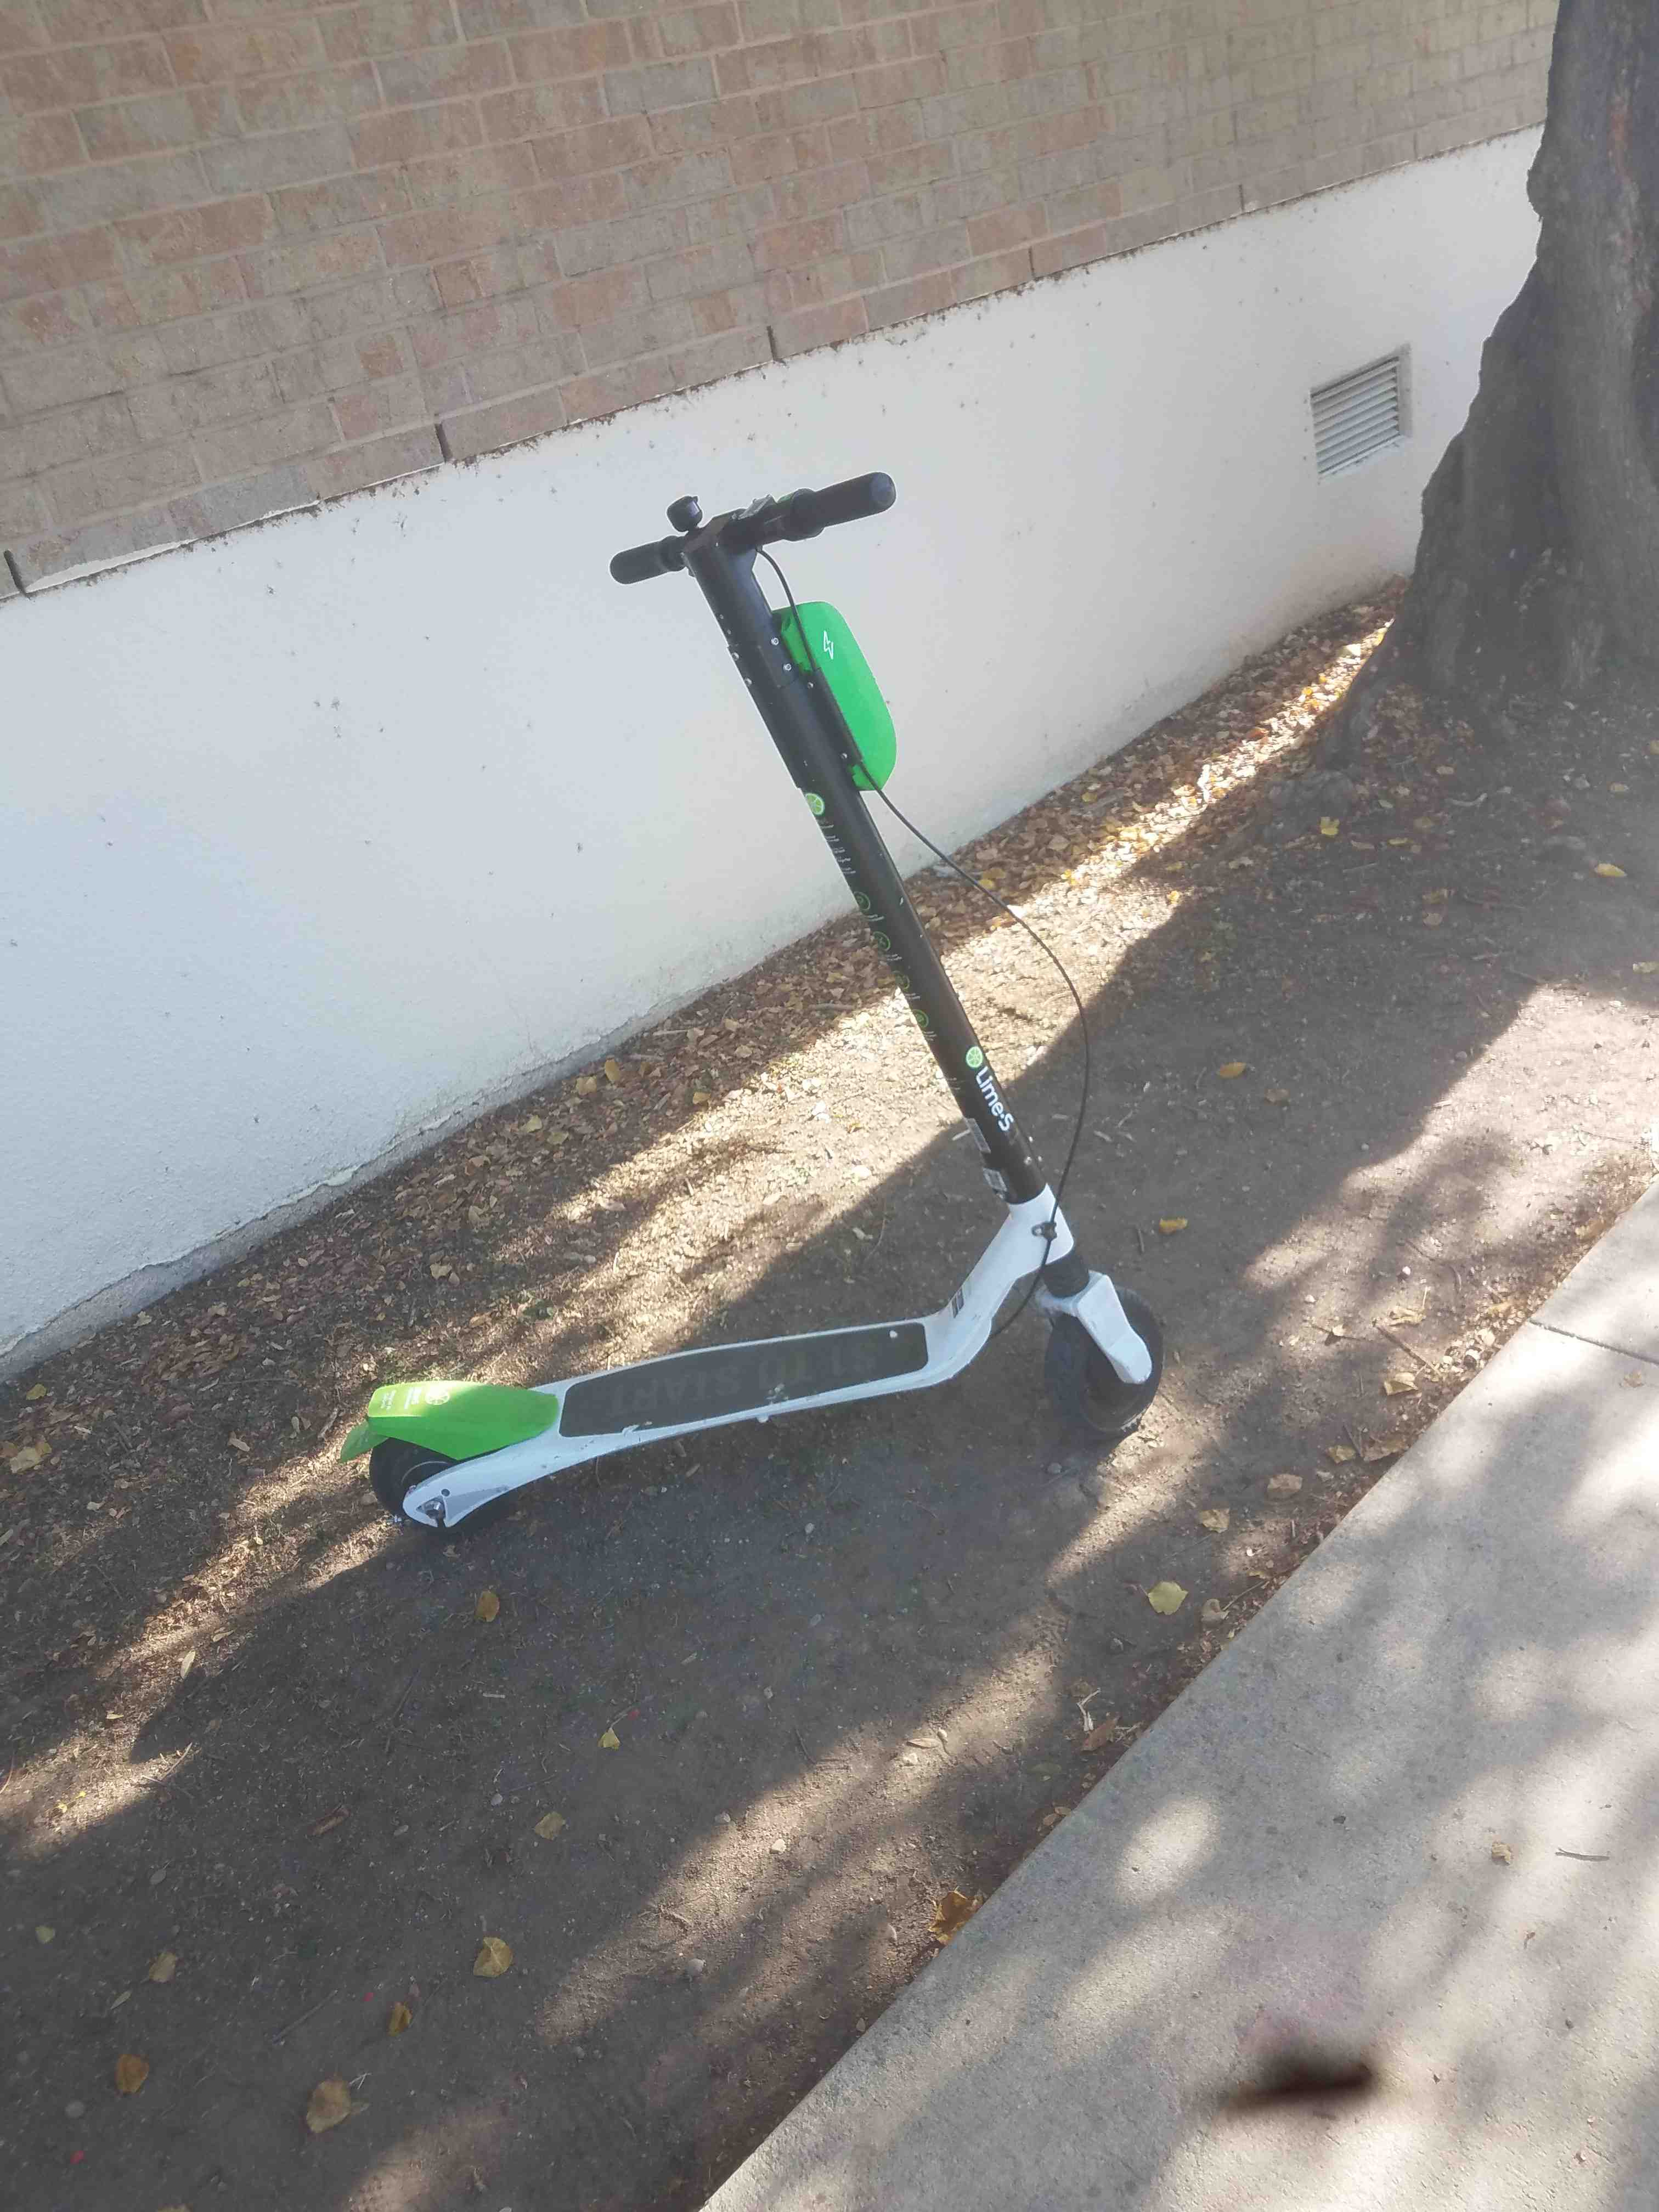scooter: (282, 425, 1168, 1588)
